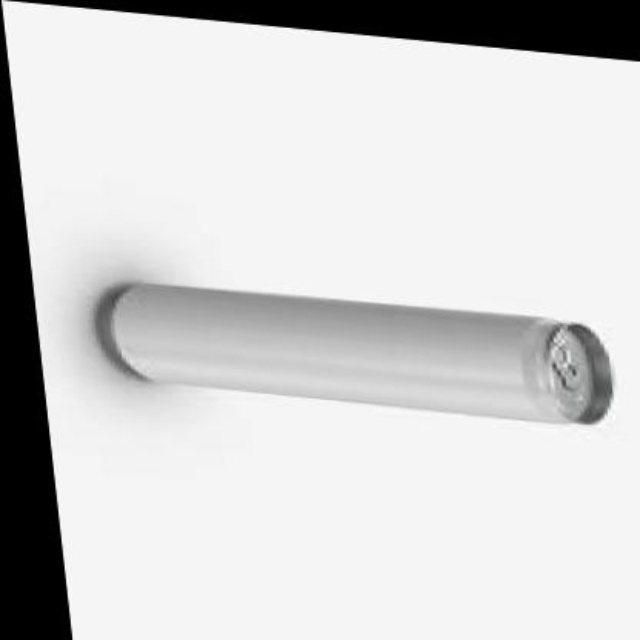trash: (95, 283, 611, 422)
